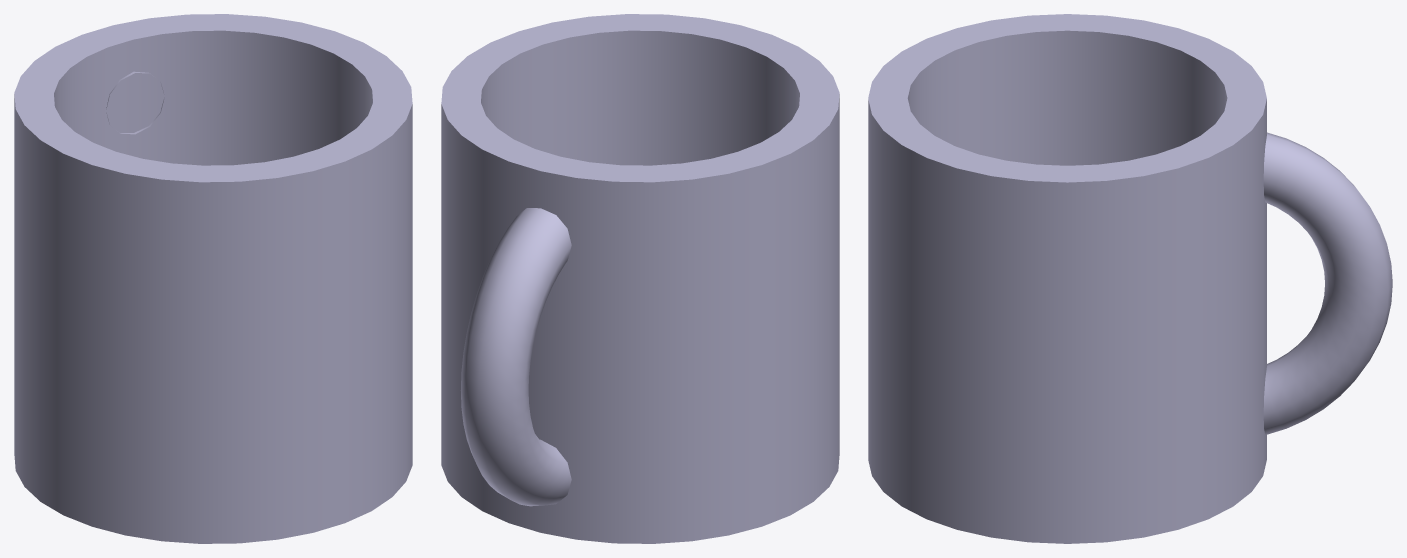
Rendered from cup.glb.
The picture shows the model from 3 angles, left to right: view 1: azimuth 30°, elevation 25°; view 2: azimuth 150°, elevation 25°; view 3: azimuth 270°, elevation 25°; orthographic projection.
Visible parts, largest first — view 1: Cube; view 2: Cube, Torus; view 3: Cube, Torus.
Part boxes in pixels (<box>): Cube: <box>14,14,412,543</box>; Cube: <box>441,14,839,543</box>; Torus: <box>460,208,571,506</box>; Cube: <box>868,14,1266,543</box>; Torus: <box>1263,132,1392,434</box>.
Size of the model in its own units: 2 by 2.02 by 2.63.
